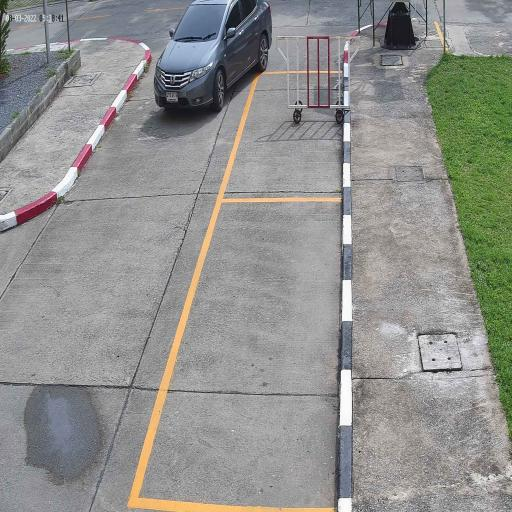car: (152, 0, 274, 113)
